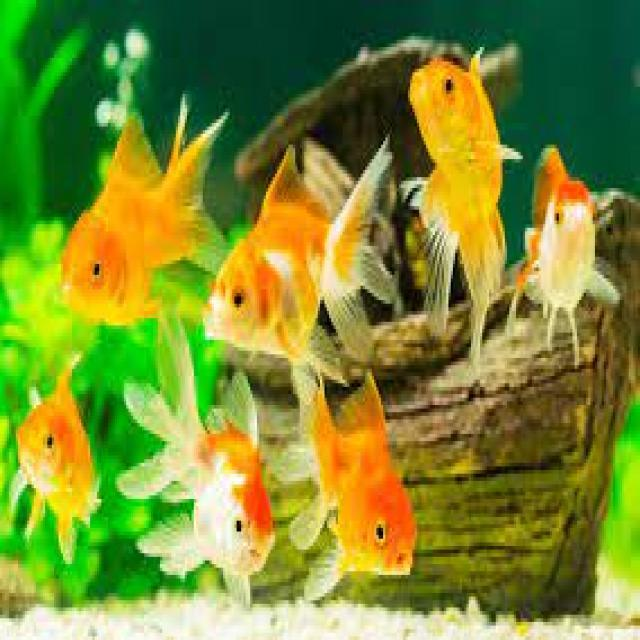goldfish: (210, 163, 386, 367), (402, 58, 518, 329), (288, 366, 416, 586)
